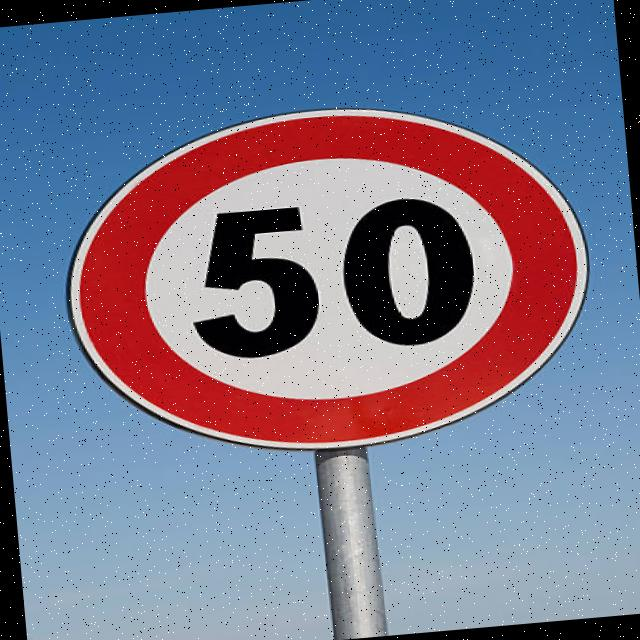speed_limit_50: (47, 74, 610, 478)
